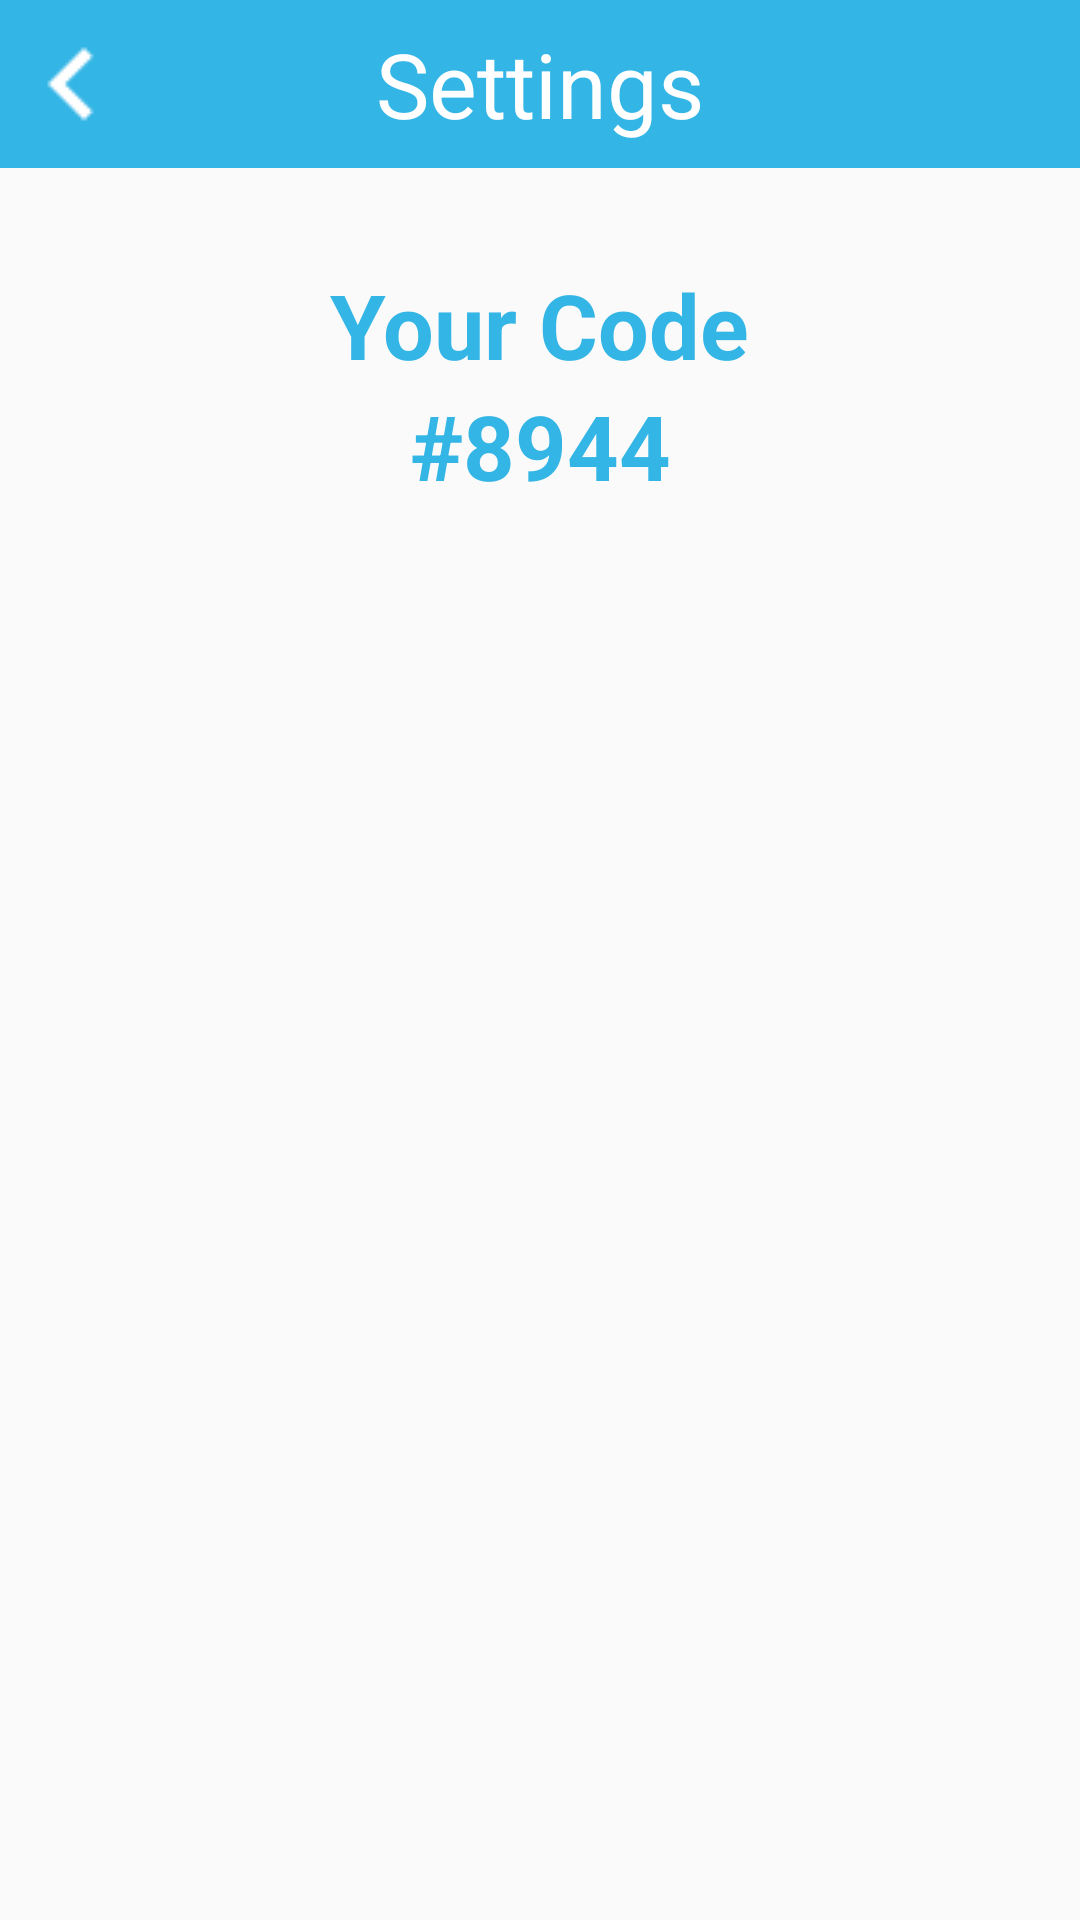

Icon click points for this 1080px x 1920px phone screenshot, format [x,y]:
Back to ClientForTrainer: [70,84]
